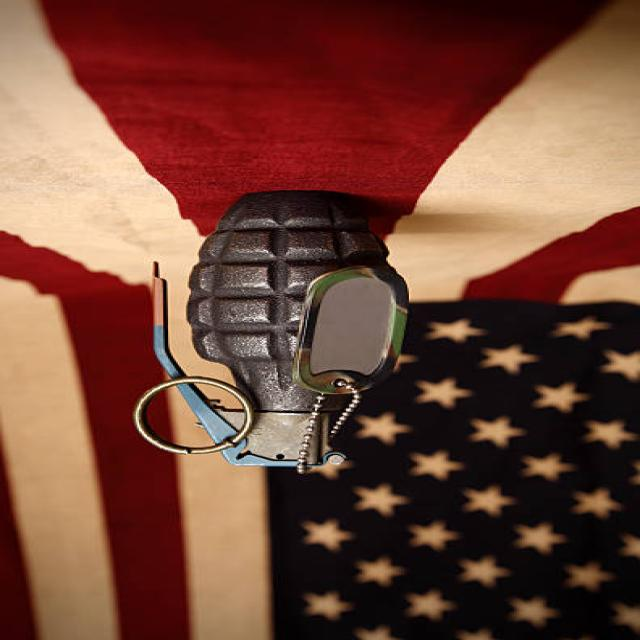grenade: (117, 186, 420, 477)
